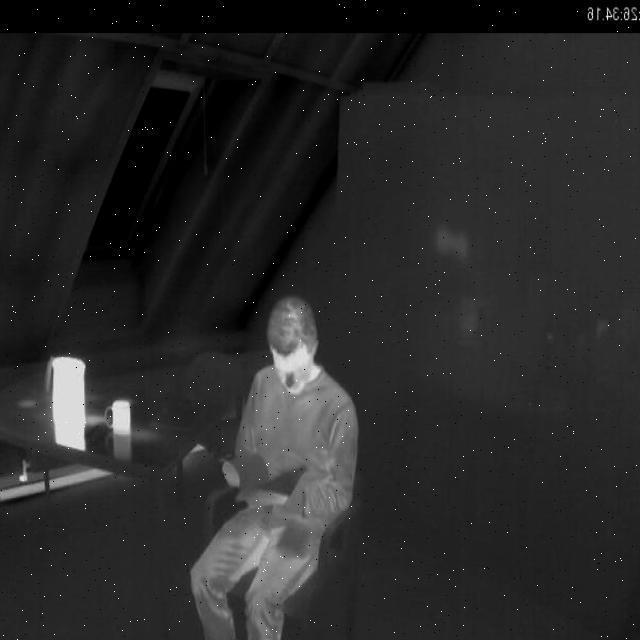person: (180, 294, 361, 640)
